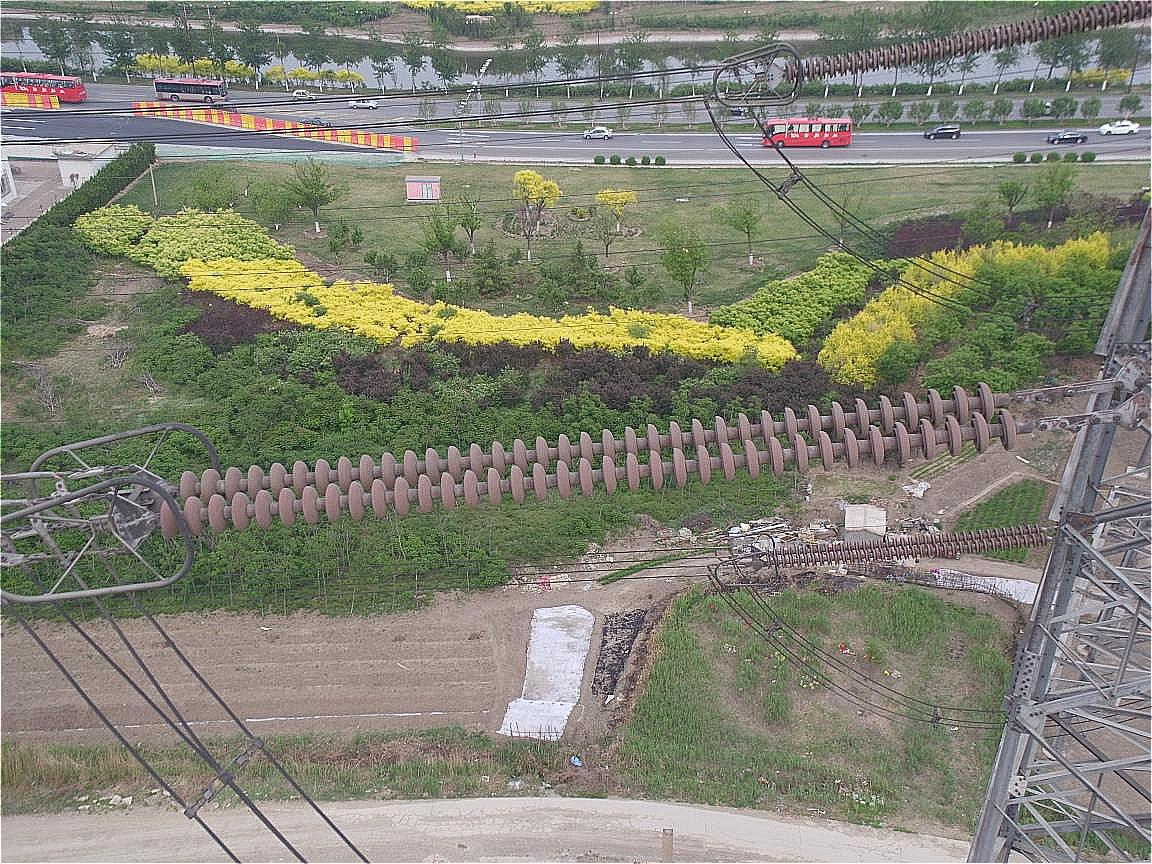insultor1: (147, 367, 1031, 541)
insultor2: (740, 523, 1066, 578)
